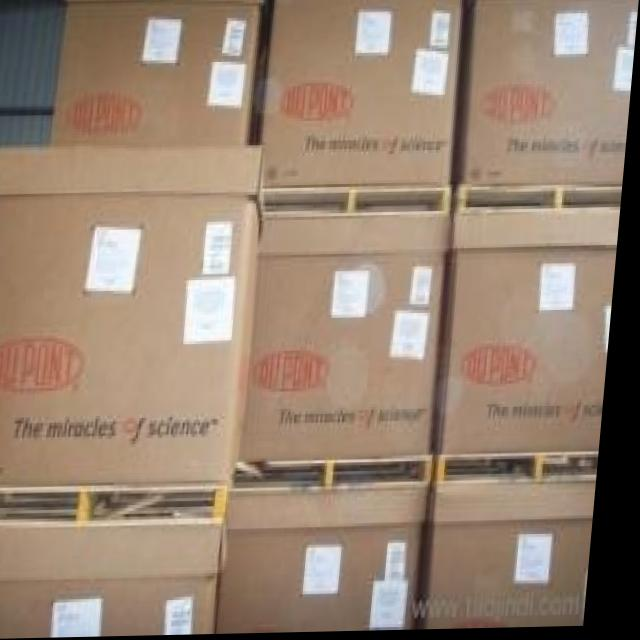box: (0, 145, 272, 488), (249, 190, 458, 466), (443, 190, 626, 460), (263, 0, 465, 190), (465, 0, 639, 190), (226, 483, 440, 635), (53, 0, 264, 147), (0, 516, 232, 639), (434, 478, 606, 632)
